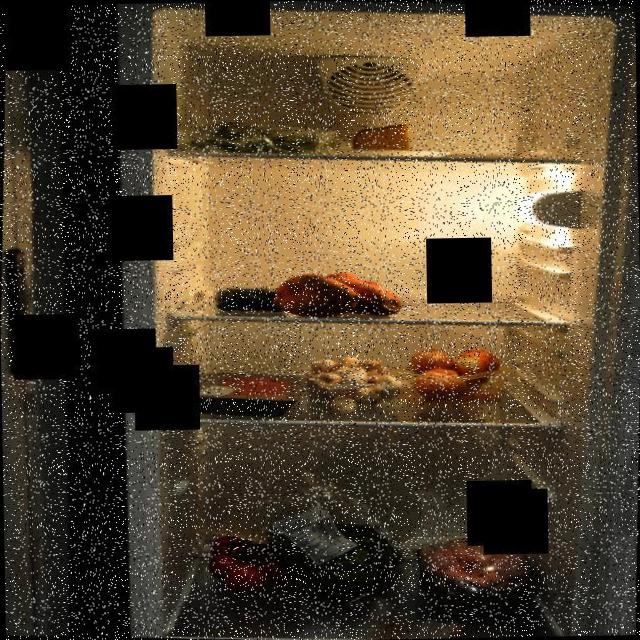Carne pollo: (408, 531, 544, 616)
Carne vacuno: (197, 368, 294, 410)
Cebolla: (406, 344, 508, 404)
Champiñones: (293, 348, 417, 416)
Queso: (352, 118, 414, 156)
Tomate: (200, 526, 310, 598)
